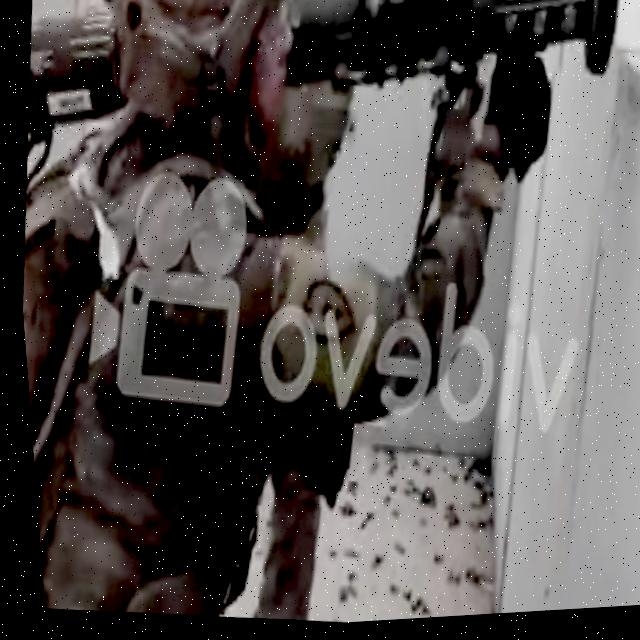rocket: (285, 0, 628, 124)
